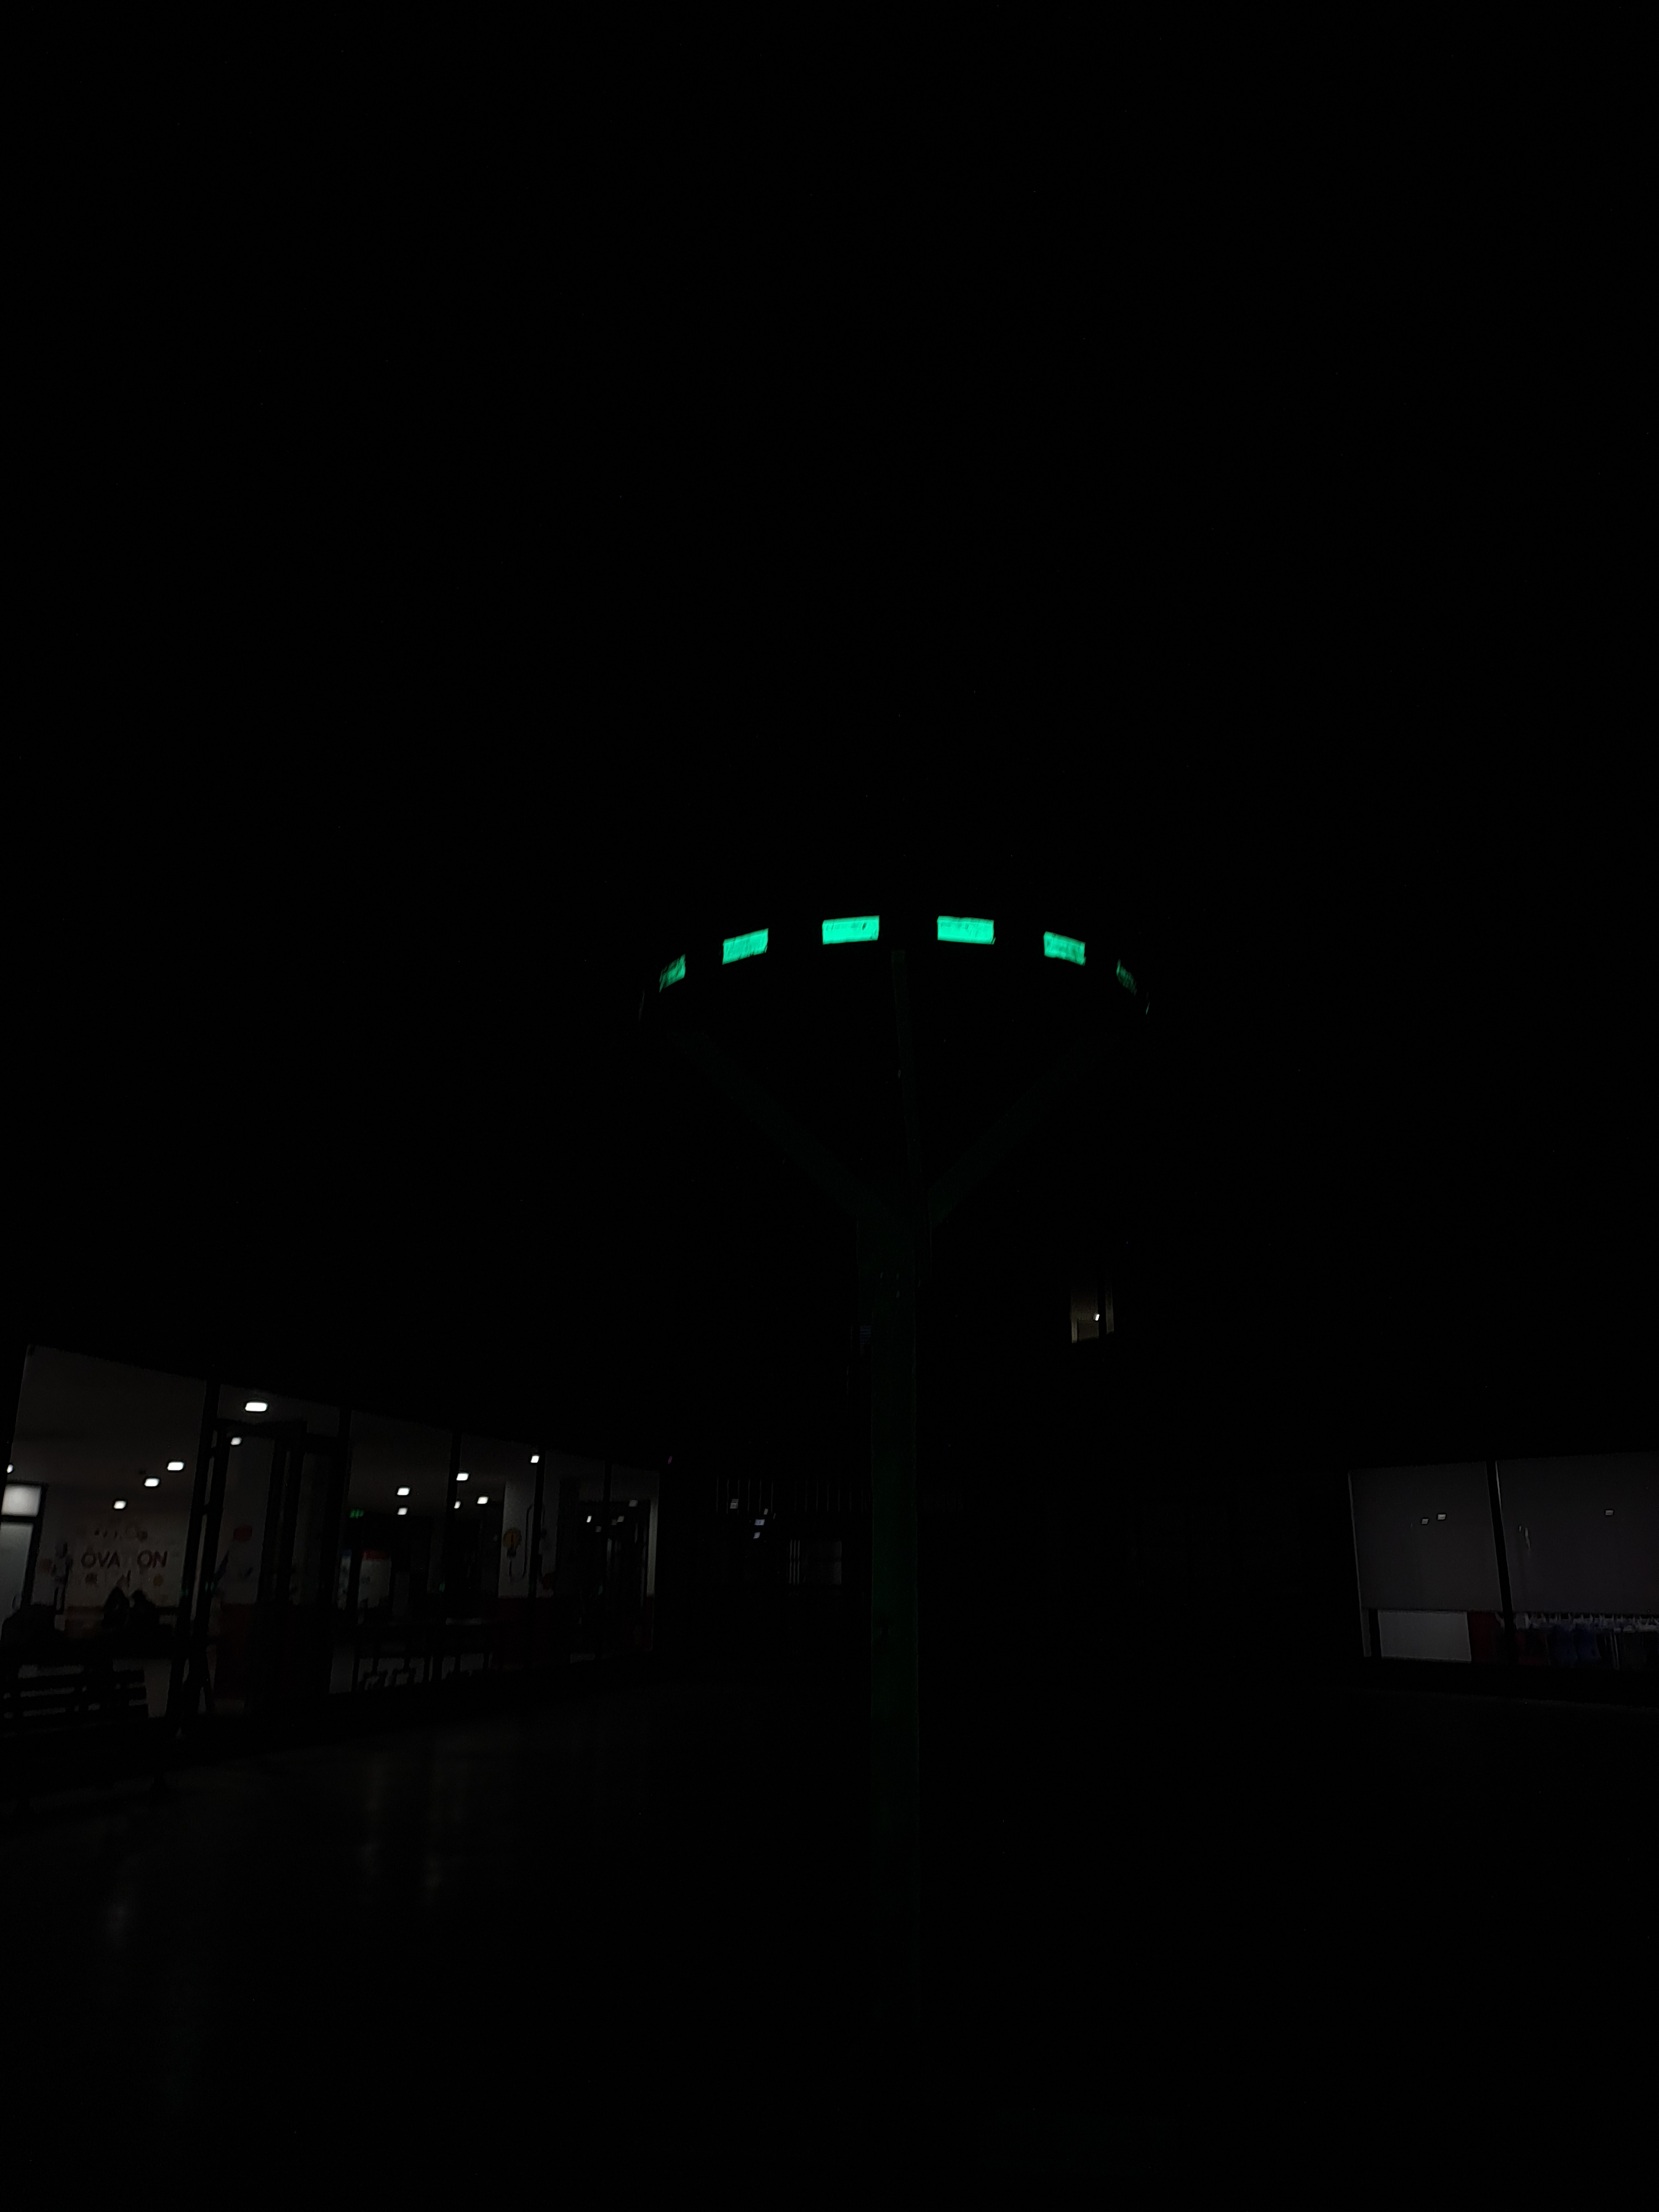hoop: (655, 906, 1094, 996)
